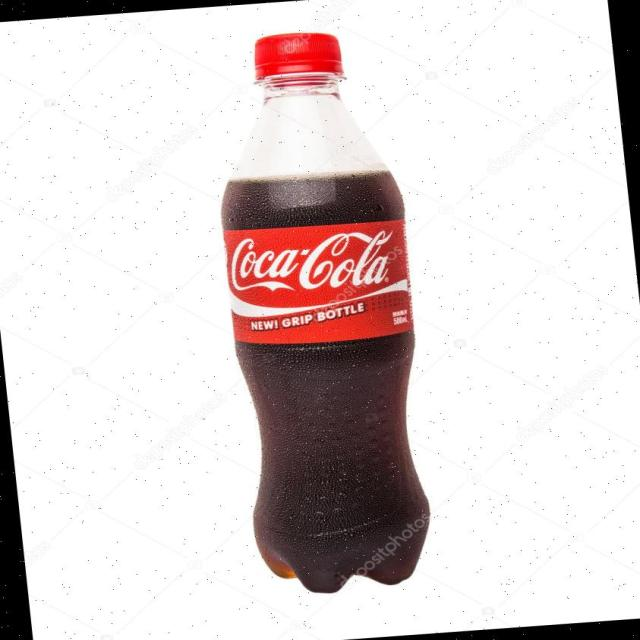coca-cola: (188, 21, 455, 602)
